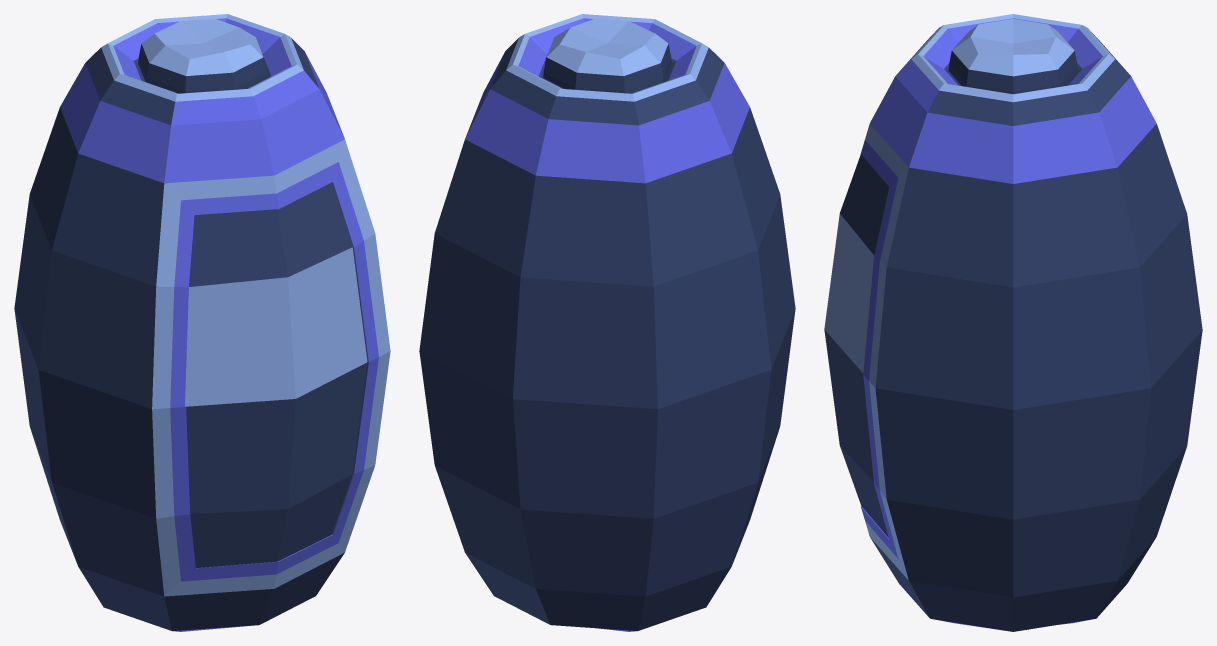
The model's file is escapePod.obj.
The picture shows the model from 3 angles, left to right: view 1: azimuth 30°, elevation 25°; view 2: azimuth 150°, elevation 25°; view 3: azimuth 270°, elevation 25°; orthographic projection.
Parts seen in each view (by area): view 1: Ship_Cube, Door_Cube.001; view 2: Ship_Cube; view 3: Ship_Cube, Door_Cube.001.
Boxes of the visible parts, left/top/right/bottom form: Ship_Cube: left=14, top=14, right=390, bottom=631; Door_Cube.001: left=185, top=182, right=367, bottom=567; Ship_Cube: left=419, top=14, right=795, bottom=631; Ship_Cube: left=860, top=14, right=1202, bottom=631; Door_Cube.001: left=824, top=154, right=889, bottom=537.
Bounding box in the file's own units: 1.5 × 2.48 × 1.5.
1 material, 1 textured.
